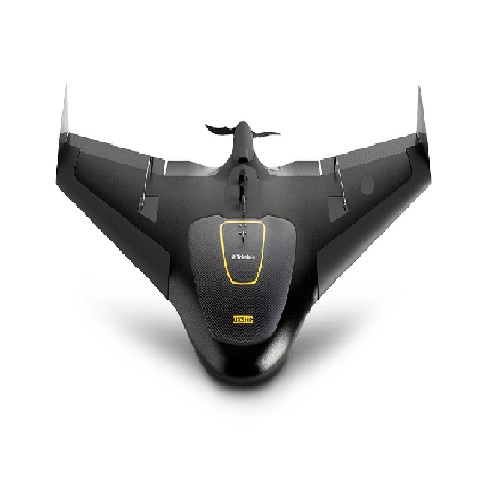maybay_khongnguoilai: (54, 75, 435, 387)
